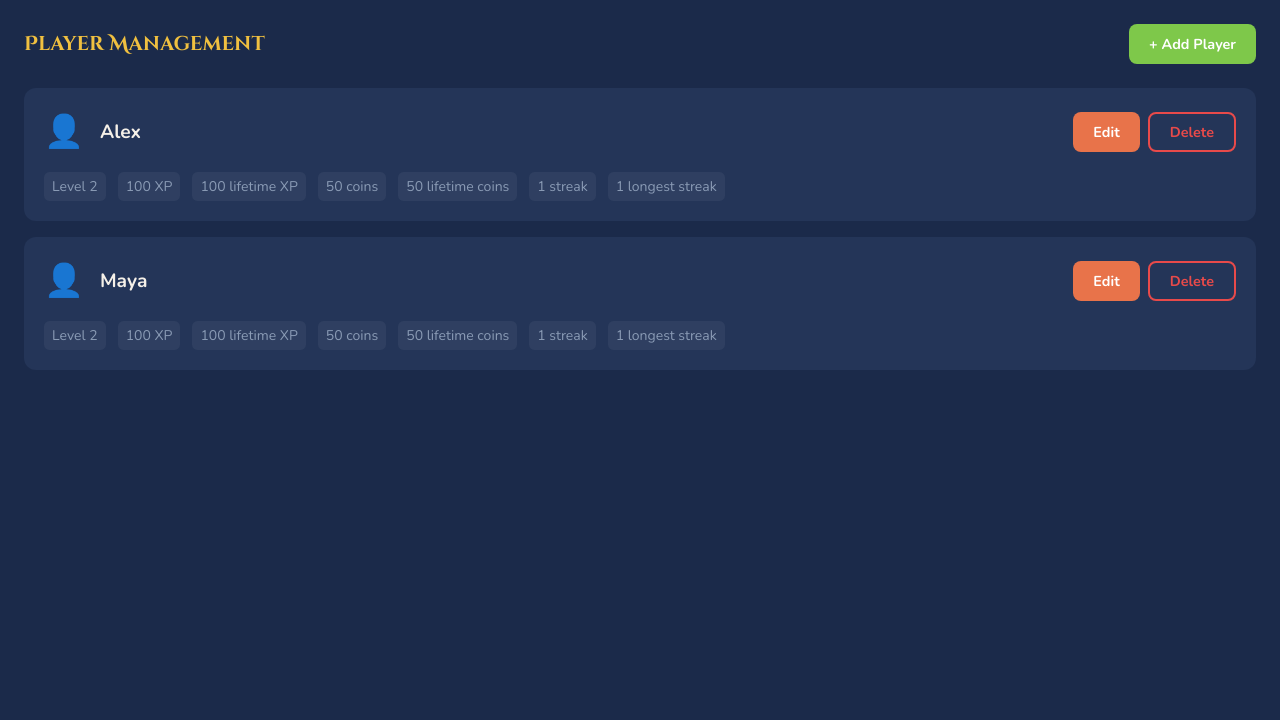
PlayerManagementTab › confirming delete removes the player
This screenshot has width=1280, height=720.
Click the button with aria-label "Delete Alex".
click(1192, 132)  # box [1148,112,1236,152]
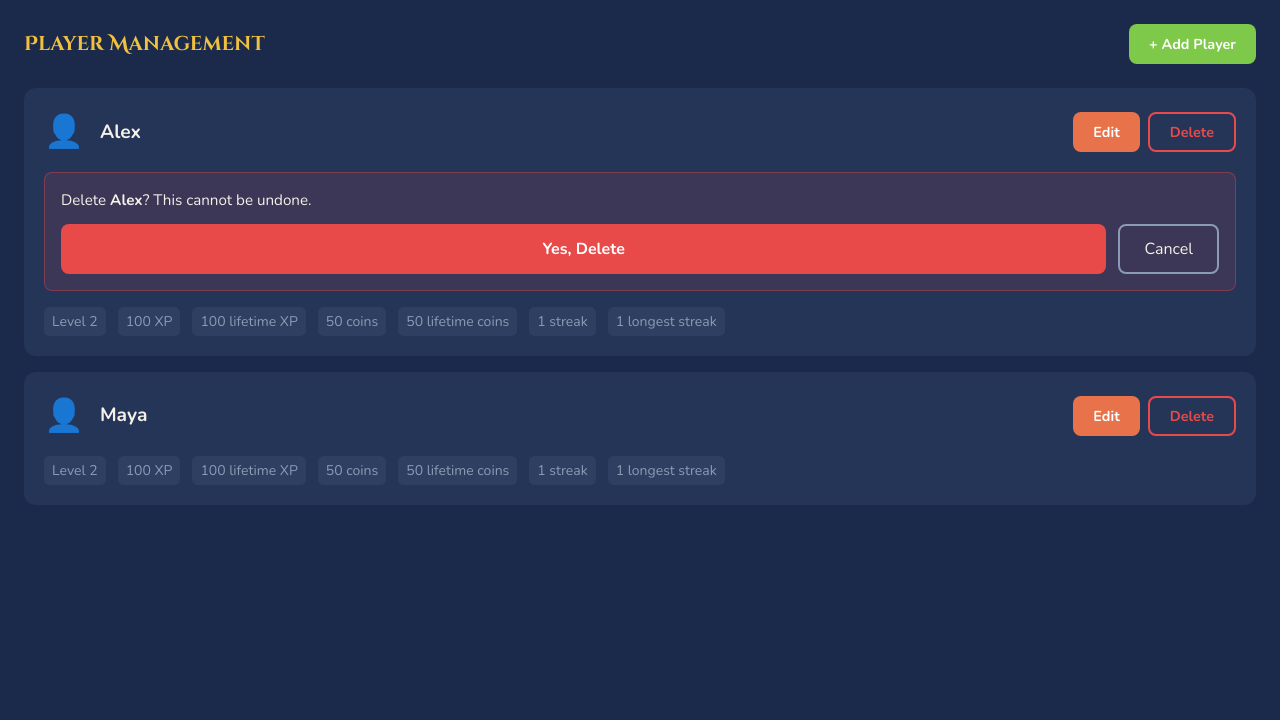
Click the button with aria-label "Confirm delete Alex".
click(584, 249)  # box [61,224,1106,274]
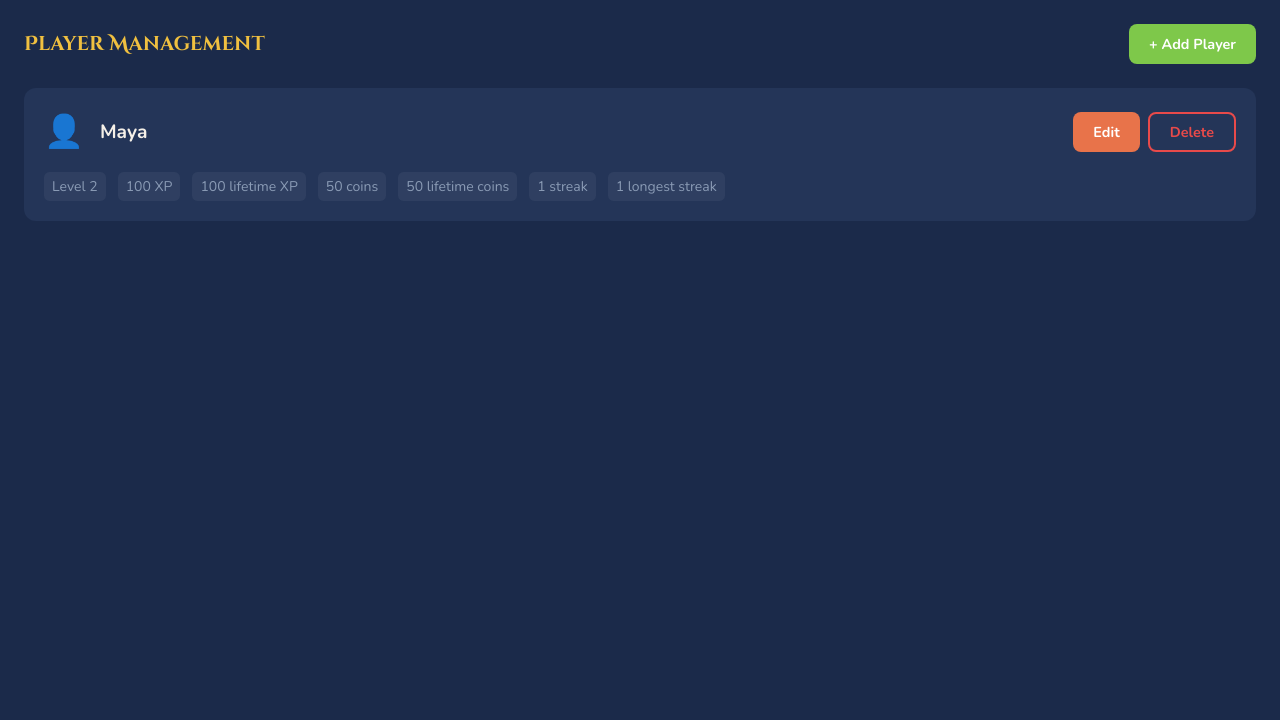
Check: the text "Maya" is shown, box [100,119,147,145]
Check: the text "Alex" is gone
